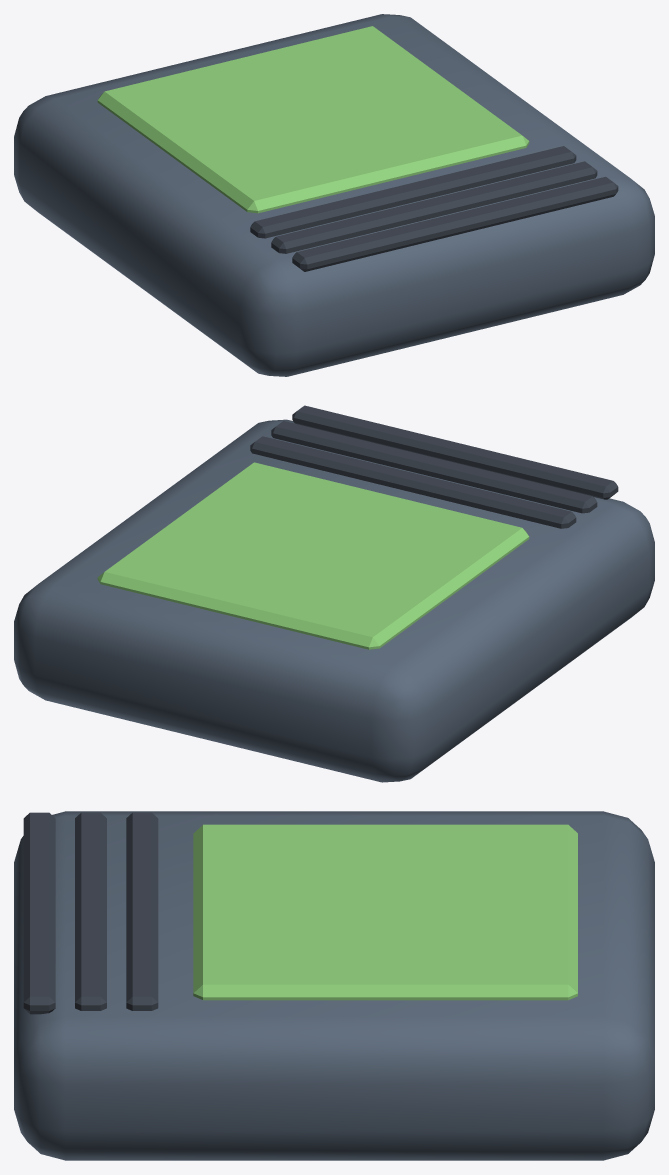
File: videogame_cartucho_verde.glb
3 views of the same model, one above another, from view 1: azimuth 30°, elevation 25°; view 2: azimuth 150°, elevation 25°; view 3: azimuth 270°, elevation 25° (orthographic). The views are drawn at different scales.
Visible parts, largest first — view 1: videogame_cartucho_verde; view 2: videogame_cartucho_verde; view 3: videogame_cartucho_verde.
Part boxes in pixels (x1=…): videogame_cartucho_verde: x1=14, y1=14, x2=654, y2=376; videogame_cartucho_verde: x1=14, y1=405, x2=654, y2=782; videogame_cartucho_verde: x1=14, y1=811, x2=654, y2=1160.
Size of the model in its own units: 0.09 by 0.026 by 0.1.
1 material, 1 textured.
